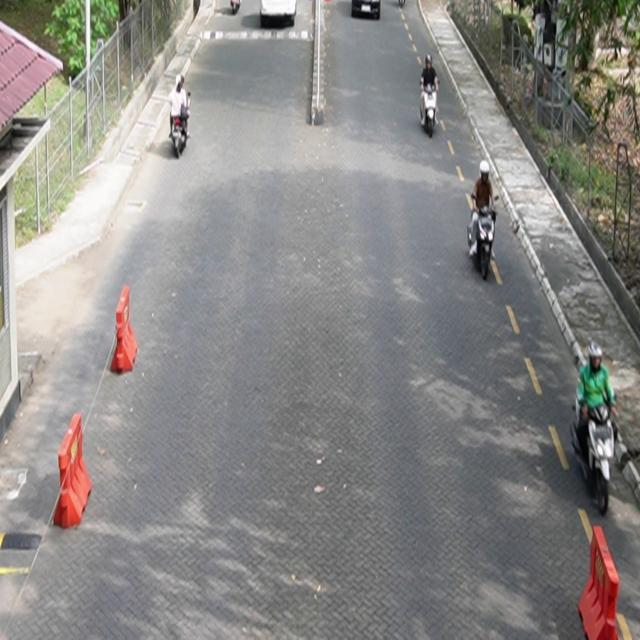car: (260, 1, 297, 28), (353, 1, 382, 21)
